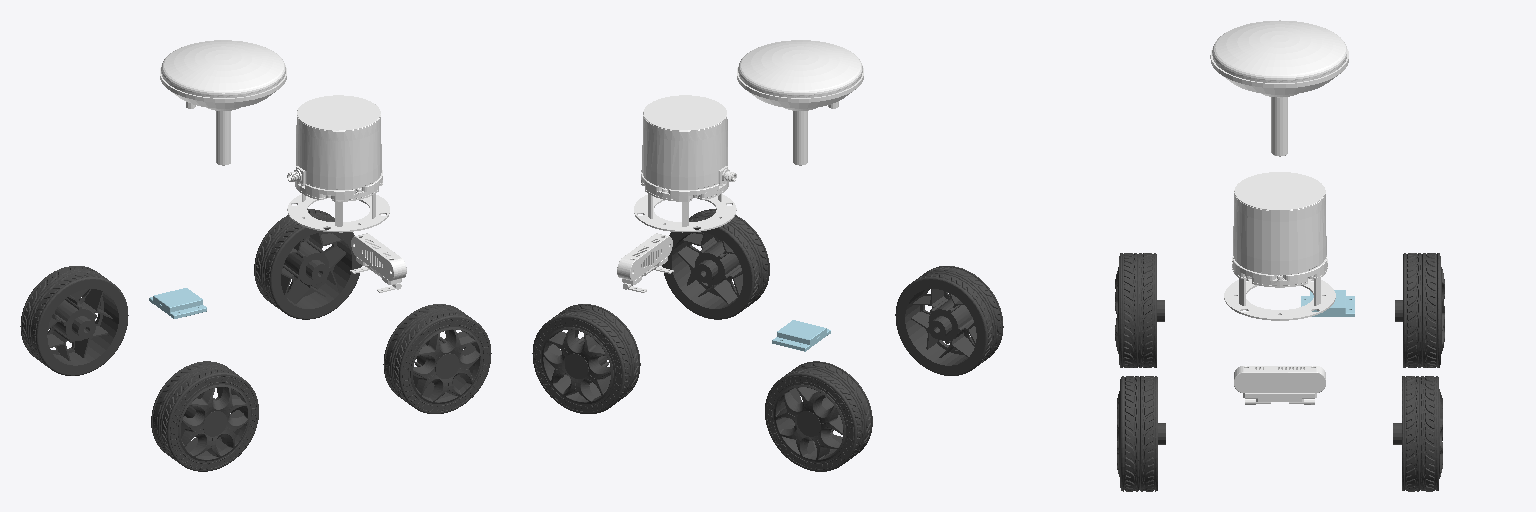
The robot description file, URDF, robot "outdoor_self_drive":
<?xml version="1.0" encoding="utf-8"?>
<!-- This URDF was automatically created by SolidWorks to URDF Exporter! Originally created by [author] ([email redacted]) 
     Commit Version: 1.6.0-4-g7f85cfe  Build Version: 1.6.7995.38578
     For more information, please see http://wiki.ros.org/sw_urdf_exporter -->
<robot
  name="outdoor_self_drive">
  <link
    name="base_link">
    <inertial>
      <origin
        xyz="-0.0283966067637906 0.00449390506381457 0.0692458862341471"
        rpy="0 0 0" />
      <mass
        value="1.41795964763811" />
      <inertia
        ixx="0.00365403013342928"
        ixy="-8.41076498613861E-06"
        ixz="-0.000120522462398885"
        iyy="0.00594517964152508"
        iyz="1.64128430565514E-06"
        izz="0.00899915205791385" />
    </inertial>
    <visual>
      <origin
        xyz="0 0 0"
        rpy="0 0 0" />
      <geometry>
        <mesh
          filename="package://wheeltec_robot_urdf/meshes/autoware_senior_akm_meshes/base_link.STL" />
      </geometry>
      <material
        name="">
        <color
          rgba="0.741176470588235 0.901960784313726 0.956862745098039 1" />
      </material>
    </visual>
    <collision>
      <origin
        xyz="0 0 0"
        rpy="0 0 0" />
      <geometry>
        <mesh
          filename="package://wheeltec_robot_urdf/meshes/autoware_senior_akm_meshes/base_link.STL" />
      </geometry>
    </collision>
  </link>
  <link
    name="lf_wheel_link">
    <inertial>
      <origin
        xyz="-2.36231678163445E-07 0.00330933793323804 1.59939802549941E-05"
        rpy="0 0 0" />
      <mass
        value="0.282382363555527" />
      <inertia
        ixx="0.000386424115262233"
        ixy="-5.52680329595221E-08"
        ixz="-4.06926730365545E-09"
        iyy="0.000685587986049065"
        iyz="2.23798747337568E-08"
        izz="0.000386465585918261" />
    </inertial>
    <visual>
      <origin
        xyz="0 0 0"
        rpy="0 0 0" />
      <geometry>
        <mesh
          filename="package://wheeltec_robot_urdf/meshes/autoware_senior_akm_meshes/lf_wheel_link.STL" />
      </geometry>
      <material
        name="">
        <color
          rgba="0.349019607843137 0.349019607843137 0.349019607843137 1" />
      </material>
    </visual>
    <collision>
      <origin
        xyz="0 0 0"
        rpy="0 0 0" />
      <geometry>
        <mesh
          filename="package://wheeltec_robot_urdf/meshes/autoware_senior_akm_meshes/lf_wheel_link.STL" />
      </geometry>
    </collision>
  </link>
  <joint
    name="lf_wheel_joint"
    type="continuous">
    <origin
      xyz="0.1608 0.15274 0.0241"
      rpy="0 0 0" />
    <parent
      link="base_link" />
    <child
      link="lf_wheel_link" />
    <axis
      xyz="-0.00018436 1 0" />
  </joint>
  <link
    name="lb_wheel_link">
    <inertial>
      <origin
        xyz="-3.76432267024107E-07 0.00330933793138721 -1.59969838649243E-05"
        rpy="0 0 0" />
      <mass
        value="0.282382358217047" />
      <inertia
        ixx="0.00038642408363422"
        ixy="1.15581655418689E-10"
        ixz="-3.93574712946211E-09"
        iyy="0.000685587984367836"
        iyz="-2.23805637399097E-08"
        izz="0.000386465595314486" />
    </inertial>
    <visual>
      <origin
        xyz="0 0 0"
        rpy="0 0 0" />
      <geometry>
        <mesh
          filename="package://wheeltec_robot_urdf/meshes/autoware_senior_akm_meshes/lb_wheel_link.STL" />
      </geometry>
      <material
        name="">
        <color
          rgba="0.349019607843137 0.349019607843137 0.349019607843137 1" />
      </material>
    </visual>
    <collision>
      <origin
        xyz="0 0 0"
        rpy="0 0 0" />
      <geometry>
        <mesh
          filename="package://wheeltec_robot_urdf/meshes/autoware_senior_akm_meshes/lb_wheel_link.STL" />
      </geometry>
    </collision>
  </link>
  <joint
    name="lb_wheel_joint"
    type="continuous">
    <origin
      xyz="-0.15789 0.15434 0.024"
      rpy="0 0 0" />
    <parent
      link="base_link" />
    <child
      link="lb_wheel_link" />
    <axis
      xyz="0 1 0" />
  </joint>
  <link
    name="rf_wheel_link">
    <inertial>
      <origin
        xyz="-3.74894962795747E-07 -0.000558652495833062 1.59951939343872E-05"
        rpy="0 0 0" />
      <mass
        value="0.282382361164223" />
      <inertia
        ixx="0.000386424096336984"
        ixy="-1.15258330841376E-10"
        ixz="4.013416843381E-09"
        iyy="0.000685587991396148"
        iyz="-2.23809588870044E-08"
        izz="0.000386465589640663" />
    </inertial>
    <visual>
      <origin
        xyz="0 0 0"
        rpy="0 0 0" />
      <geometry>
        <mesh
          filename="package://wheeltec_robot_urdf/meshes/autoware_senior_akm_meshes/rf_wheel_link.STL" />
      </geometry>
      <material
        name="">
        <color
          rgba="0.349019607843137 0.349019607843137 0.349019607843137 1" />
      </material>
    </visual>
    <collision>
      <origin
        xyz="0 0 0"
        rpy="0 0 0" />
      <geometry>
        <mesh
          filename="package://wheeltec_robot_urdf/meshes/autoware_senior_akm_meshes/rf_wheel_link.STL" />
      </geometry>
    </collision>
  </link>
  <joint
    name="rf_wheel_joint"
    type="continuous">
    <origin
      xyz="0.16081 -0.15386 0.0241"
      rpy="0 0 0" />
    <parent
      link="base_link" />
    <child
      link="rf_wheel_link" />
    <axis
      xyz="0 -1 0" />
  </joint>
  <link
    name="rb_wheel_link">
    <inertial>
      <origin
        xyz="6.52788980146091E-06 -0.000720322950036045 -1.47176288457715E-05"
        rpy="0 0 0" />
      <mass
        value="0.282382030867651" />
      <inertia
        ixx="0.000386426695992825"
        ixy="-7.9828866885517E-09"
        ixz="-1.26490539844854E-08"
        iyy="0.000685587939610514"
        iyz="2.0564113418309E-08"
        izz="0.000386462912707388" />
    </inertial>
    <visual>
      <origin
        xyz="0 0 0"
        rpy="0 0 0" />
      <geometry>
        <mesh
          filename="package://wheeltec_robot_urdf/meshes/autoware_senior_akm_meshes/rb_wheel_link.STL" />
      </geometry>
      <material
        name="">
        <color
          rgba="0.349019607843137 0.349019607843137 0.349019607843137 1" />
      </material>
    </visual>
    <collision>
      <origin
        xyz="0 0 0"
        rpy="0 0 0" />
      <geometry>
        <mesh
          filename="package://wheeltec_robot_urdf/meshes/autoware_senior_akm_meshes/rb_wheel_link.STL" />
      </geometry>
    </collision>
  </link>
  <joint
    name="rb_wheel_joint"
    type="continuous">
    <origin
      xyz="-0.15789 -0.1551 0.024"
      rpy="0 0 0" />
    <parent
      link="base_link" />
    <child
      link="rb_wheel_link" />
    <axis
      xyz="0 -1 0" />
  </joint>
  <link
    name="camera_link">
    <inertial>
      <origin
        xyz="3.24079092423046E-07 -2.22961604536042E-07 2.75547143435695E-07"
        rpy="0 0 0" />
      <mass
        value="0.0225464179517412" />
      <inertia
        ixx="2.01763360282011E-05"
        ixy="2.69072068298058E-09"
        ixz="3.95121304971283E-07"
        iyy="3.8119108395589E-06"
        iyz="-1.67828050851604E-08"
        izz="1.8077914186534E-05" />
    </inertial>
    <visual>
      <origin
        xyz="0 0 0"
        rpy="0 0 0" />
      <geometry>
        <mesh
          filename="package://wheeltec_robot_urdf/meshes/autoware_senior_akm_meshes/camera_link.STL" />
      </geometry>
      <material
        name="">
        <color
          rgba="1 1 1 1" />
      </material>
    </visual>
    <collision>
      <origin
        xyz="0 0 0"
        rpy="0 0 0" />
      <geometry>
        <mesh
          filename="package://wheeltec_robot_urdf/meshes/autoware_senior_akm_meshes/camera_link.STL" />
      </geometry>
    </collision>
  </link>
  <joint
    name="camera_joint"
    type="fixed">
    <origin
      xyz="0.16983 0.00067299 0.085068"
      rpy="0 0 0" />
    <parent
      link="base_link" />
    <child
      link="camera_link" />
    <axis
      xyz="0 0 0" />
  </joint>
  <link
    name="gyro_link">
    <inertial>
      <origin
        xyz="-0.0226680356023408 0.0293499994998707 0.00556835972762262"
        rpy="0 0 0" />
      <mass
        value="0.0236095918180264" />
      <inertia
        ixx="5.41912566272011E-06"
        ixy="-2.20925590187751E-14"
        ixz="-1.81405417766127E-09"
        iyy="4.38737045547093E-06"
        iyz="4.78388289459201E-14"
        izz="9.32311354559021E-06" />
    </inertial>
    <visual>
      <origin
        xyz="0 0 0"
        rpy="0 0 0" />
      <geometry>
        <mesh
          filename="package://wheeltec_robot_urdf/meshes/autoware_senior_akm_meshes/gyro_link.STL" />
      </geometry>
      <material
        name="">
        <color
          rgba="0.741176470588235 0.901960784313726 0.956862745098039 1" />
      </material>
    </visual>
    <collision>
      <origin
        xyz="0 0 0"
        rpy="0 0 0" />
      <geometry>
        <mesh
          filename="package://wheeltec_robot_urdf/meshes/autoware_senior_akm_meshes/gyro_link.STL" />
      </geometry>
    </collision>
  </link>
  <joint
    name="gyro_joint"
    type="fixed">
    <origin
      xyz="-0.052356 0.023789 0.0651"
      rpy="0 0 0" />
    <parent
      link="base_link" />
    <child
      link="gyro_link" />
    <axis
      xyz="0 0 0" />
  </joint>
  <link
    name="laser_link">
    <inertial>
      <origin
        xyz="-0.134373780808885 0.00199599031449515 -0.118434690411188"
        rpy="0 0 0" />
      <mass
        value="3.24885081568233" />
      <inertia
        ixx="0.103396952888868"
        ixy="-0.000357980293990003"
        ixz="0.00873509796770719"
        iyy="0.126106847247279"
        iyz="0.000430607025614972"
        izz="0.0918790685654746" />
    </inertial>
    <visual>
      <origin
        xyz="0 0 0"
        rpy="0 0 0" />
      <geometry>
        <mesh
          filename="package://wheeltec_robot_urdf/meshes/autoware_senior_akm_meshes/laser_link.STL" />
      </geometry>
      <material
        name="">
        <color
          rgba="1 1 1 1" />
      </material>
    </visual>
    <collision>
      <origin
        xyz="0 0 0"
        rpy="0 0 0" />
      <geometry>
        <mesh
          filename="package://wheeltec_robot_urdf/meshes/autoware_senior_akm_meshes/laser_link.STL" />
      </geometry>
    </collision>
  </link>
  <joint
    name="laser_joint"
    type="fixed">
    <origin
      xyz="0.11437 0.00081099 0.2342"
      rpy="0 0 0" />
    <parent
      link="base_link" />
    <child
      link="laser_link" />
    <axis
      xyz="0 0 0" />
  </joint>
  <link
    name="rtk_link">
    <inertial>
      <origin
        xyz="1.93873221414342E-07 -5.57900590481797E-09 4.88318818492317E-07"
        rpy="0 0 0" />
      <mass
        value="0.654865522959427" />
      <inertia
        ixx="0.000819546658415736"
        ixy="-9.57810009855074E-11"
        ixz="1.19748582927923E-06"
        iyy="0.000817613597625929"
        iyz="-8.55672374604797E-11"
        izz="0.00139492193339815" />
    </inertial>
    <visual>
      <origin
        xyz="0 0 0"
        rpy="0 0 0" />
      <geometry>
        <mesh
          filename="package://wheeltec_robot_urdf/meshes/autoware_senior_akm_meshes/rtk_link.STL" />
      </geometry>
      <material
        name="">
        <color
          rgba="1 1 1 1" />
      </material>
    </visual>
    <collision>
      <origin
        xyz="0 0 0"
        rpy="0 0 0" />
      <geometry>
        <mesh
          filename="package://wheeltec_robot_urdf/meshes/autoware_senior_akm_meshes/rtk_link.STL" />
      </geometry>
    </collision>
  </link>
  <joint
    name="rtk_joint"
    type="fixed">
    <origin
      xyz="-0.043328 0.00081099 0.37739"
      rpy="0 0 0" />
    <parent
      link="base_link" />
    <child
      link="rtk_link" />
    <axis
      xyz="0 0 0" />
  </joint>
</robot>

--- Facts derived from the render (not from the file) ---
3 views of the same robot in one strip: view 1: azimuth 30°, elevation 25°; view 2: azimuth 150°, elevation 25°; view 3: azimuth 270°, elevation 25° (orthographic).
Robot: outdoor_self_drive — 9 links, 8 joints (4 continuous, 4 fixed); root link base_link; default pose: all joints at 0.
Visible links, largest first — view 1: laser_link, rb_wheel_link, rf_wheel_link, lb_wheel_link, lf_wheel_link, rtk_link, camera_link, gyro_link; view 2: laser_link, lb_wheel_link, lf_wheel_link, rb_wheel_link, rf_wheel_link, rtk_link, camera_link, gyro_link; view 3: laser_link, rtk_link, lb_wheel_link, rb_wheel_link, rf_wheel_link, lf_wheel_link, camera_link, gyro_link.
Link boxes in pixels (left/top/right/bottom): laser_link: left=287, top=95, right=389, bottom=232; rb_wheel_link: left=151, top=361, right=258, bottom=471; rf_wheel_link: left=383, top=304, right=491, bottom=413; lb_wheel_link: left=20, top=266, right=128, bottom=375; lf_wheel_link: left=254, top=209, right=361, bottom=319; rtk_link: left=160, top=40, right=286, bottom=165; camera_link: left=350, top=233, right=406, bottom=292; gyro_link: left=149, top=288, right=206, bottom=318; laser_link: left=634, top=95, right=736, bottom=232; lb_wheel_link: left=765, top=361, right=872, bottom=471; lf_wheel_link: left=532, top=304, right=640, bottom=413; rb_wheel_link: left=895, top=266, right=1003, bottom=375; rf_wheel_link: left=662, top=209, right=769, bottom=319; rtk_link: left=737, top=40, right=863, bottom=165; camera_link: left=617, top=233, right=673, bottom=292; gyro_link: left=772, top=320, right=830, bottom=351; laser_link: left=1224, top=172, right=1335, bottom=320; rtk_link: left=1210, top=20, right=1348, bottom=156; lb_wheel_link: left=1395, top=253, right=1444, bottom=367; rb_wheel_link: left=1115, top=253, right=1164, bottom=367; rf_wheel_link: left=1117, top=376, right=1165, bottom=491; lf_wheel_link: left=1393, top=376, right=1442, bottom=491; camera_link: left=1234, top=366, right=1325, bottom=404; gyro_link: left=1301, top=290, right=1354, bottom=316.
Bounding box of the posed robot: 0.4447 × 0.3598 × 0.444 m (x, y, z).
8 mesh visuals loaded from 9 distinct referenced files (8 binary STL); not drawn: 1 (reference not matched to a file when rendering).
